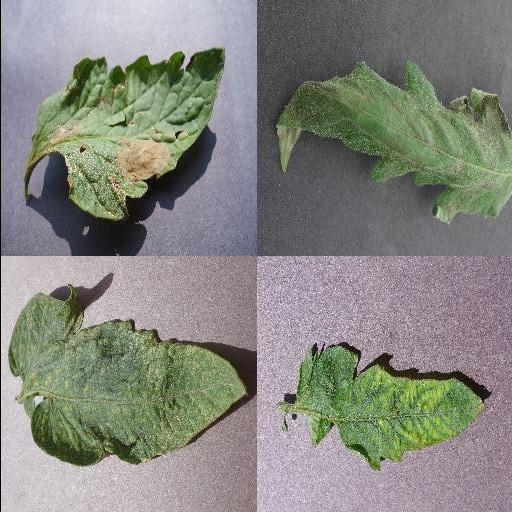Late Blight: (276, 58, 512, 224), (31, 49, 229, 223)
Mosaic Virus: (296, 344, 486, 476)
Spider Mites: (7, 285, 247, 467)
